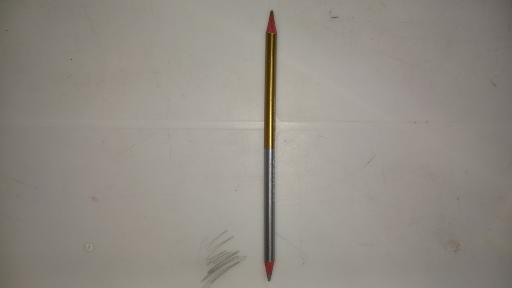Pencil: (264, 9, 278, 282)
